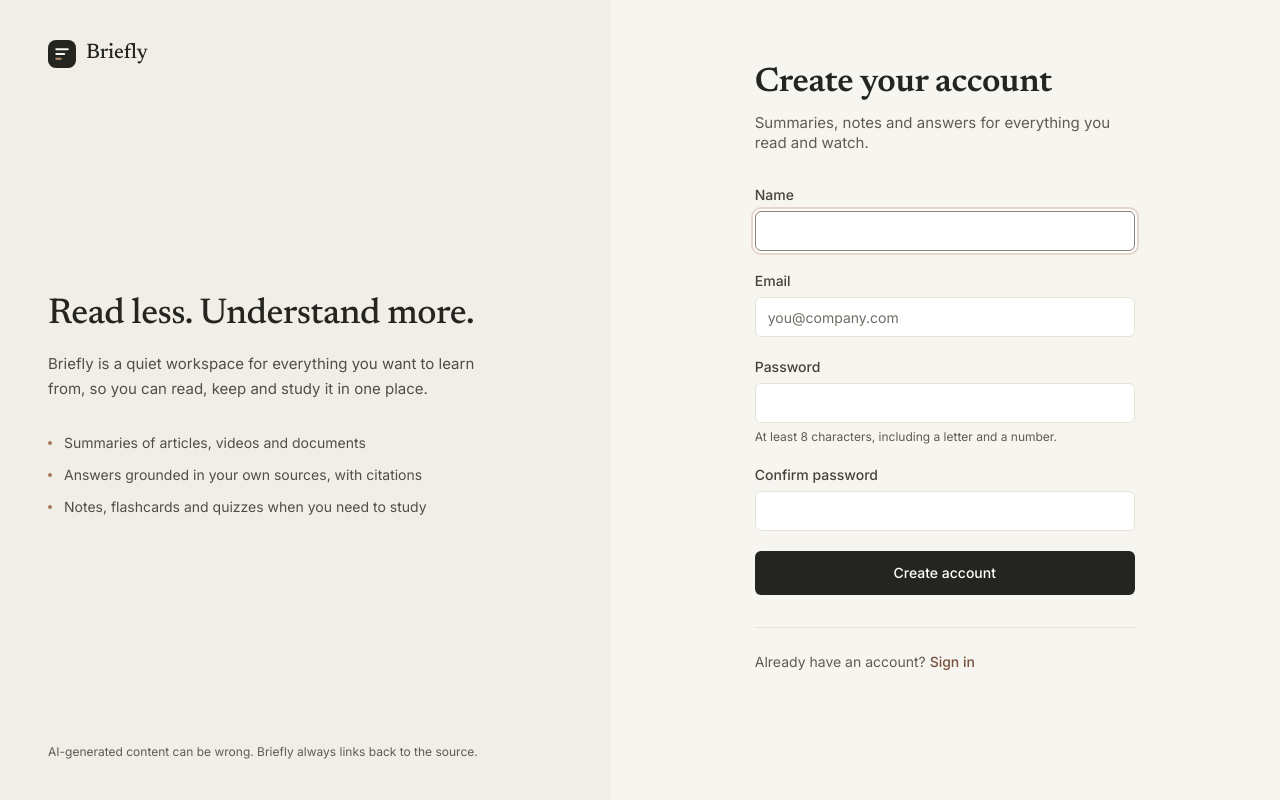
Test: Register form › rejects weak password "short1"
Type "Ada Lovelace" into the field labelled "Name" at (945, 231), box [755,211,1135,251]
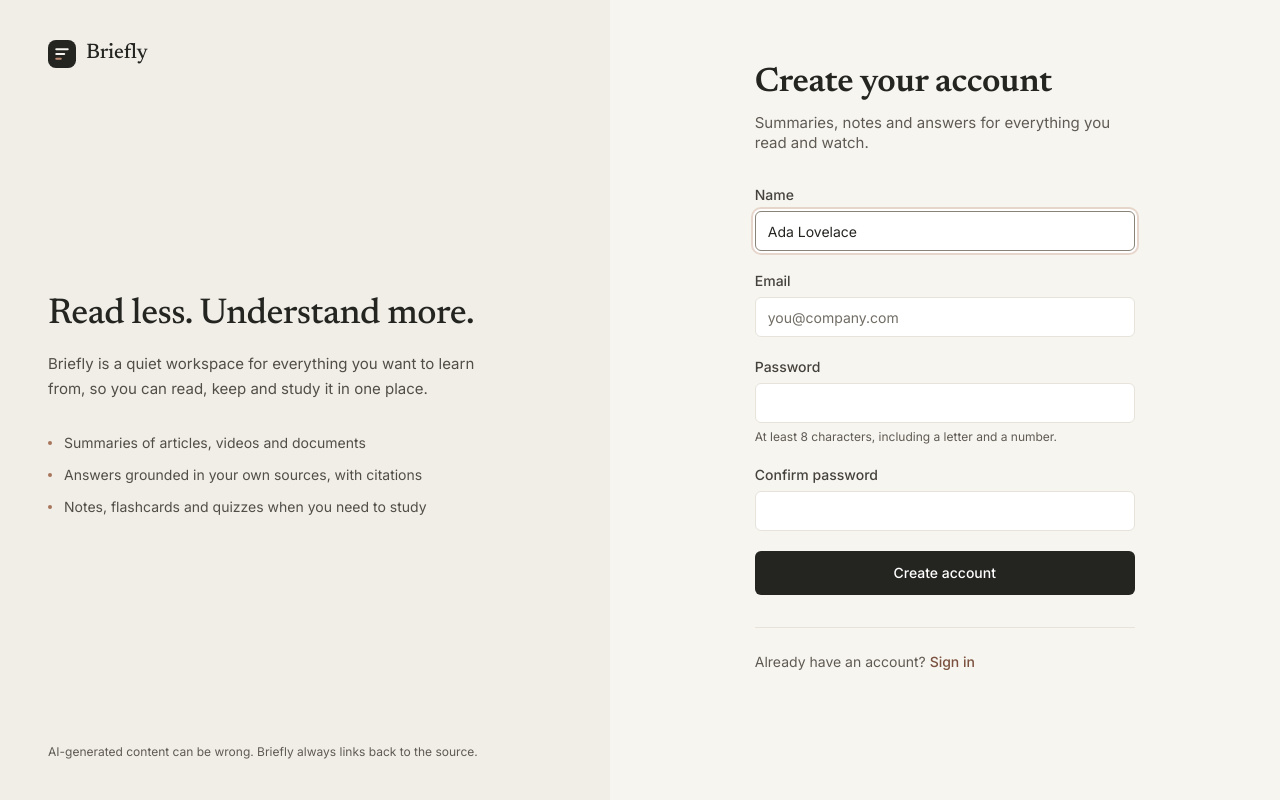
Type "ada@example.com" into the field labelled "Email" at (945, 317), box [755,297,1135,337]
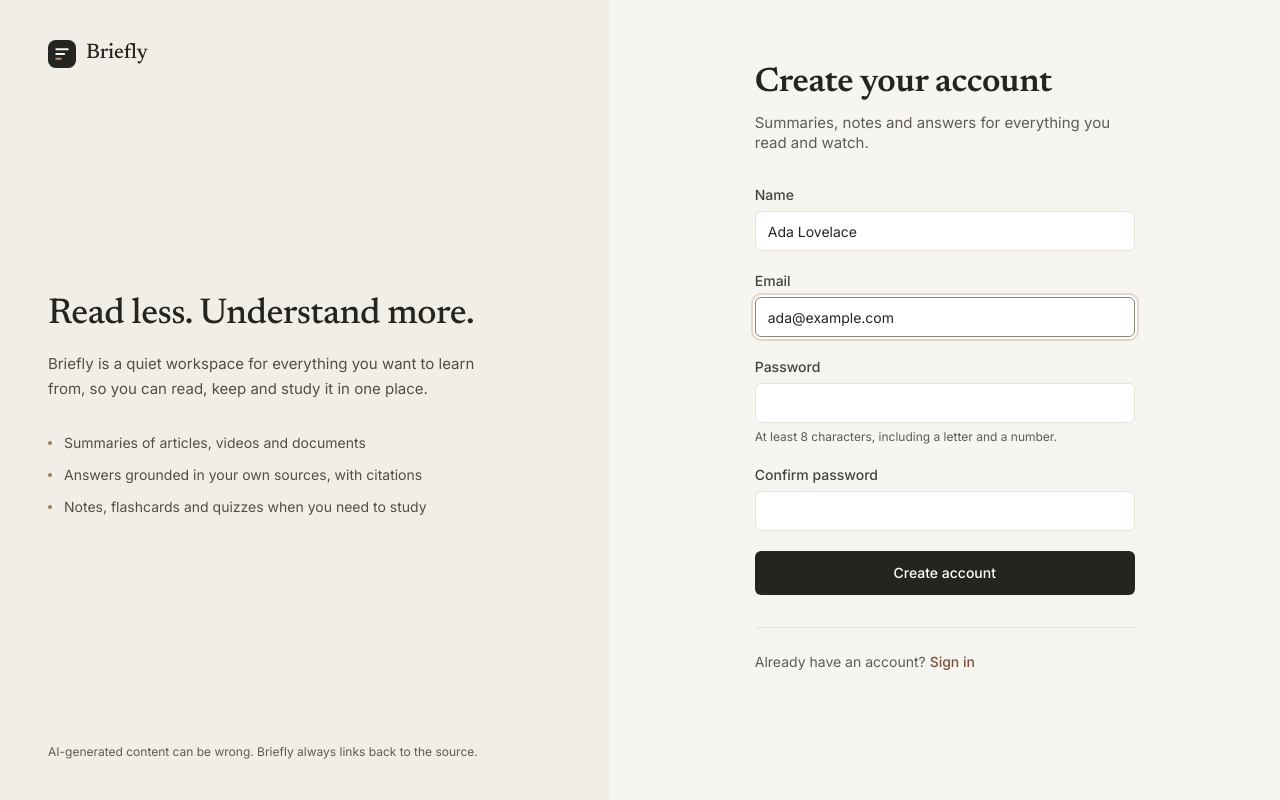
Type "short1" into the password field labelled "Password" at (945, 403), box [755,383,1135,423]
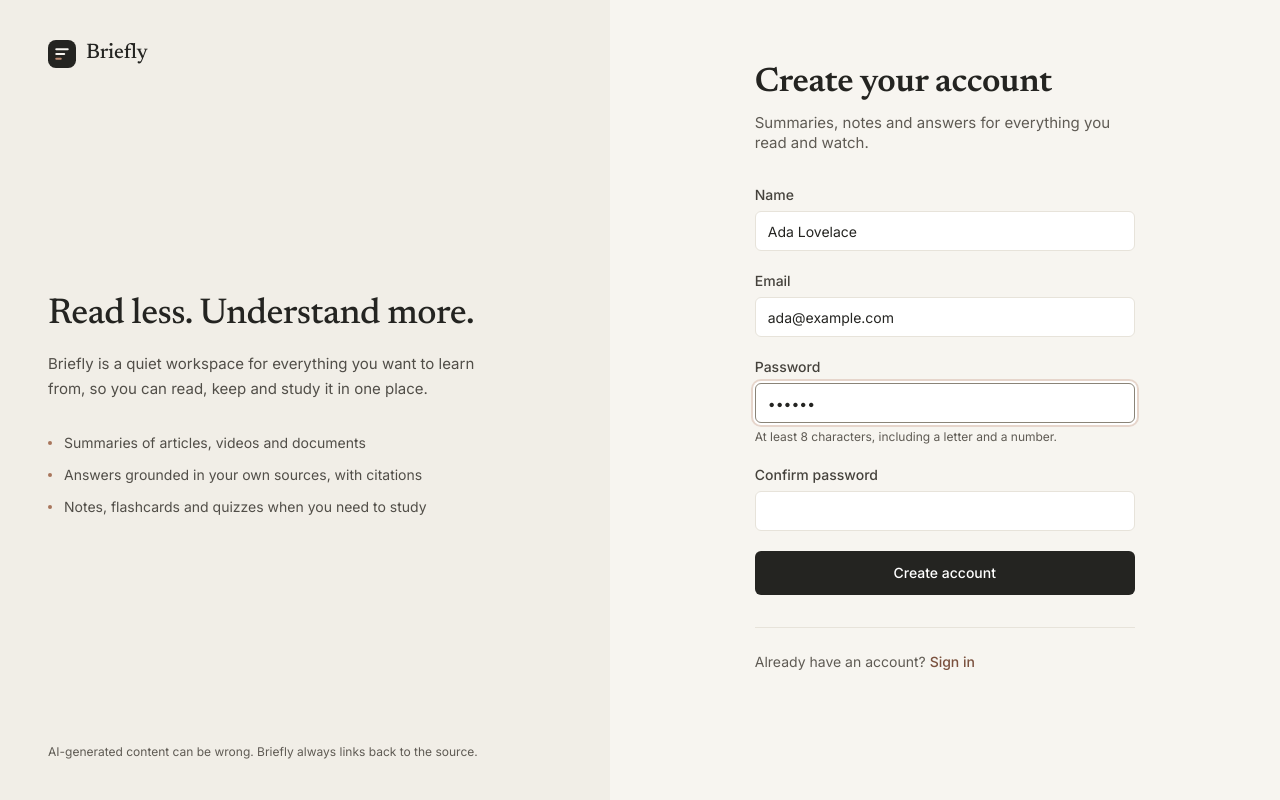
Type "short1" into the password field labelled "Confirm password" at (945, 511), box [755,491,1135,531]
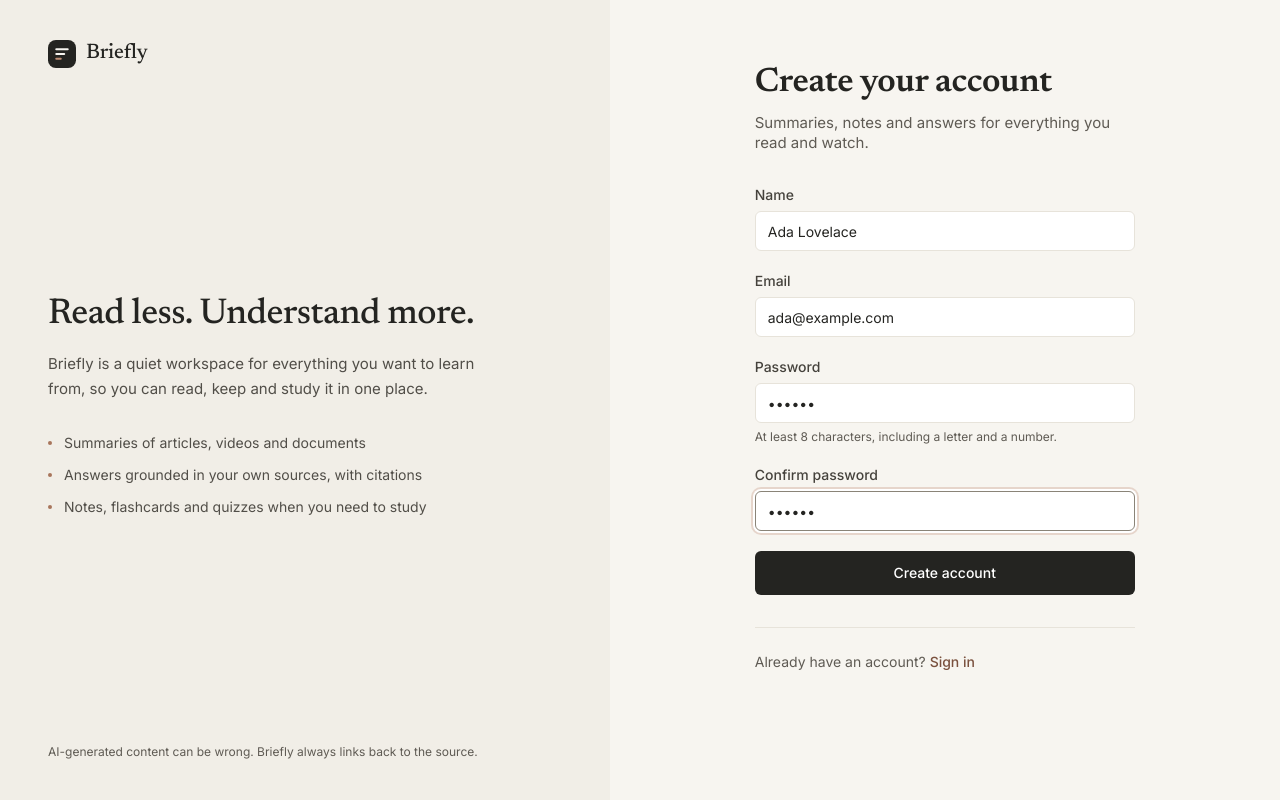
Click the button "Create account" at (945, 573), box [755,551,1135,595]
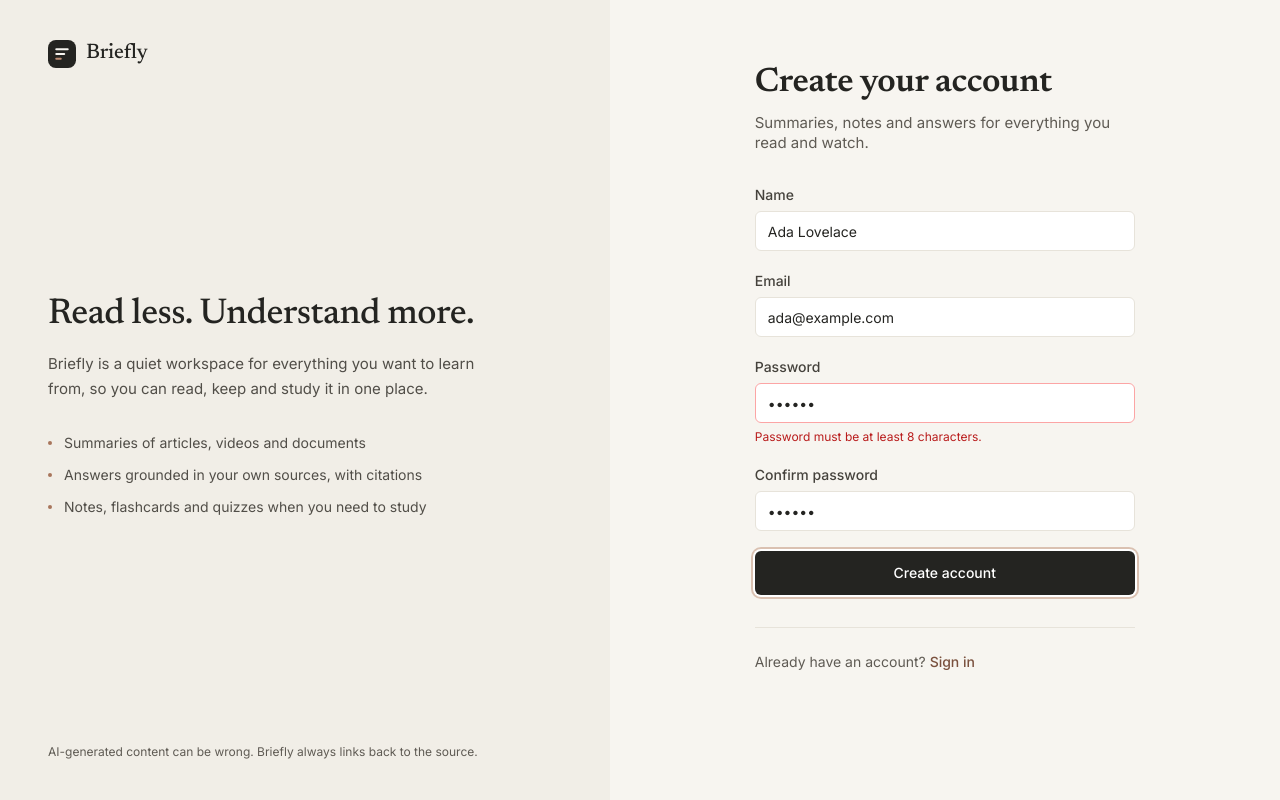
Expected: the text "Password must be at least 8 characters." is shown, [755,429,982,444]
